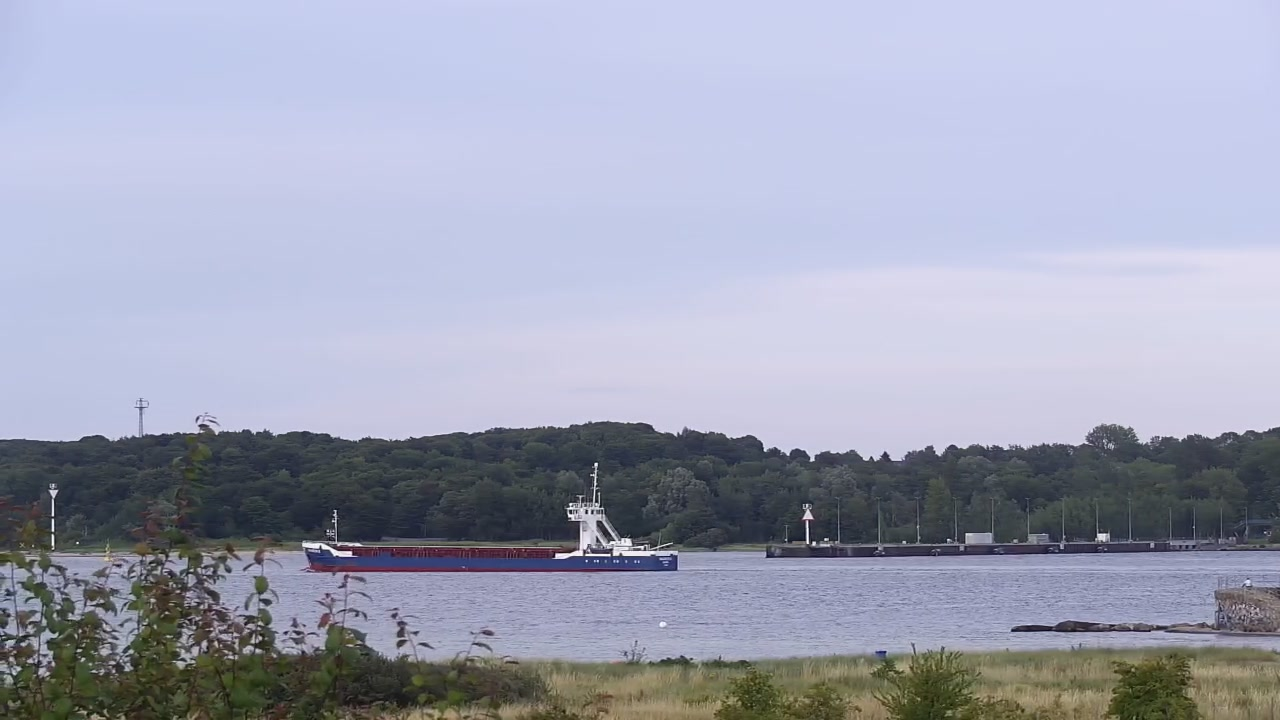human: (1239, 576, 1253, 590)
sea: (299, 461, 679, 572)
